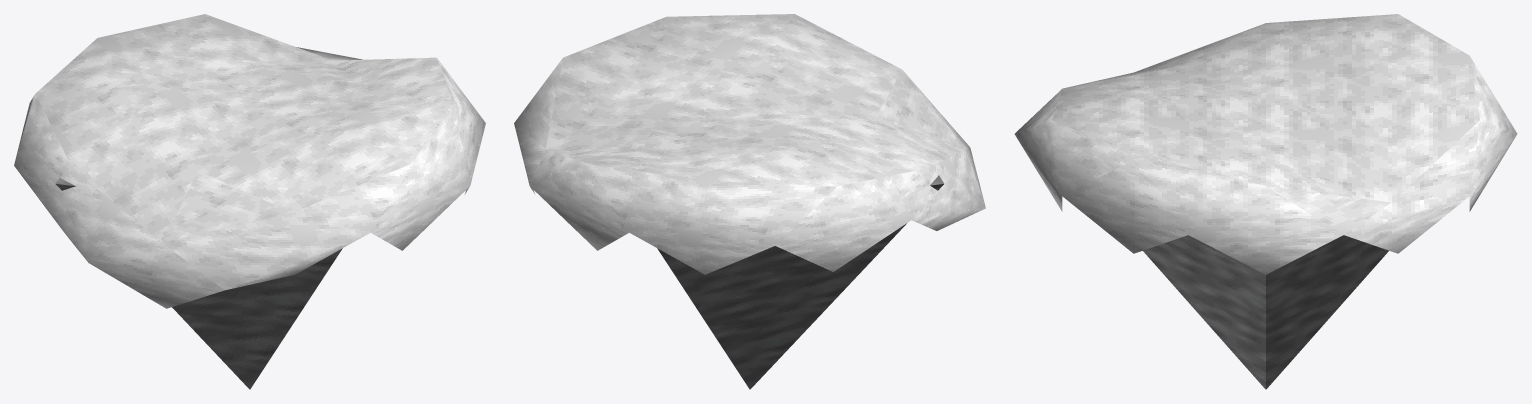
File: starbase.gltf
The picture shows the model from 3 angles, left to right: view 1: azimuth 30°, elevation 25°; view 2: azimuth 150°, elevation 25°; view 3: azimuth 270°, elevation 25°; orthographic projection. The views are drawn at different scales.
Visible parts, largest first — view 1: Icosphere.005, Cone.002; view 2: Icosphere.005, Cone.002; view 3: Icosphere.005, Cone.002.
Part boxes in pixels (box(x1,y1,x2,y2)): Icosphere.005: box(14, 14, 485, 308); Cone.002: box(55, 178, 342, 389); Icosphere.005: box(514, 14, 985, 274); Cone.002: box(657, 175, 944, 389); Icosphere.005: box(1014, 14, 1517, 274); Cone.002: box(1143, 235, 1388, 389).
Size of the model in its own units: 16.27 by 11.5 by 17.11.
2 materials, 2 textured.
